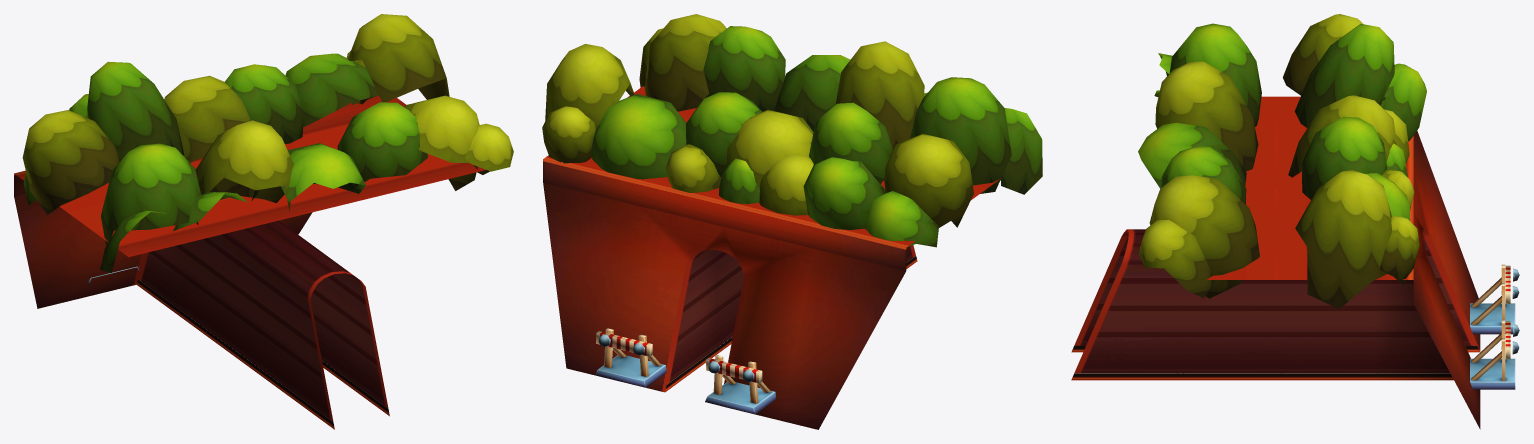
Rendered from tunnel_2.fbx.
3 renders of one model, left to right at view 1: azimuth 30°, elevation 25°; view 2: azimuth 150°, elevation 25°; view 3: azimuth 270°, elevation 25°, orthographic. The views are drawn at different scales.
Parts seen in each view (by area): view 1: tunnel_2_obj; view 2: tunnel_2_obj; view 3: tunnel_2_obj.
Part boxes in pixels (box(x1,y1,x2,y2)): tunnel_2_obj: box(14, 14, 513, 429); tunnel_2_obj: box(542, 14, 1042, 429); tunnel_2_obj: box(1071, 14, 1519, 429).
Bounding box in the file's own units: 15200 × 9690 × 13696.
Materials: 1 (1 with a texture image).
